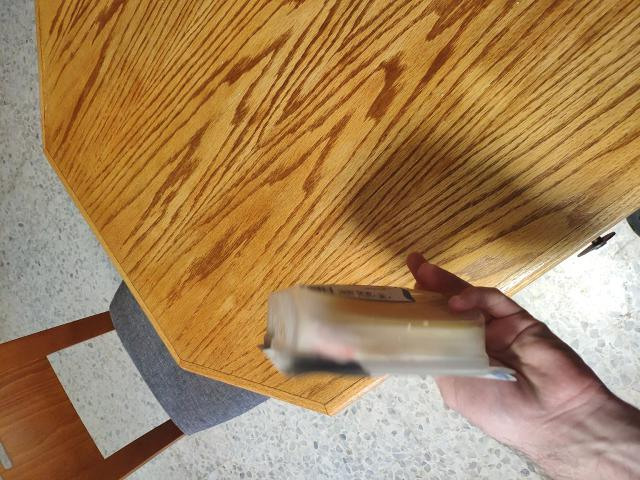cheese: (279, 275, 499, 425)
